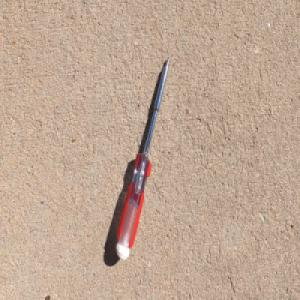Screwdriver: (115, 54, 171, 261)
